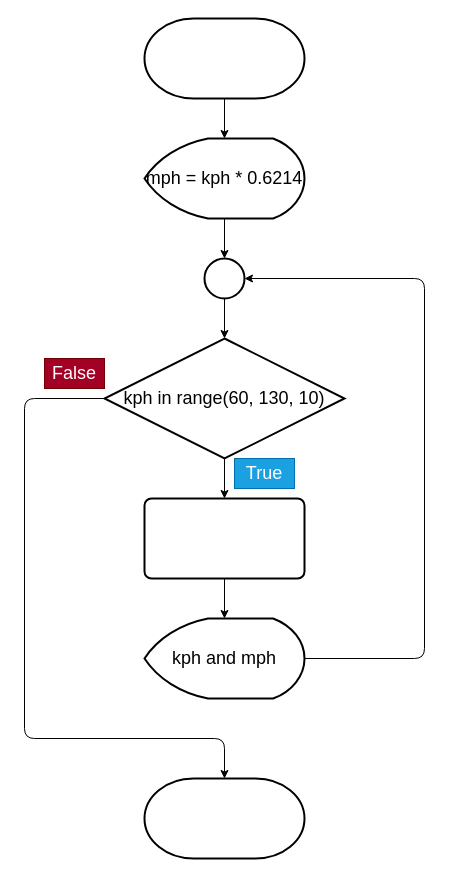
The diagram is 450 pixels wide and 876 high, and some of its shapes have lost their labels. The centre of each missing label's shape, as x and y in pixels:
End: (x=224, y=818)
mph = kph* 0.6214: (x=224, y=538)
Start: (x=224, y=58)
